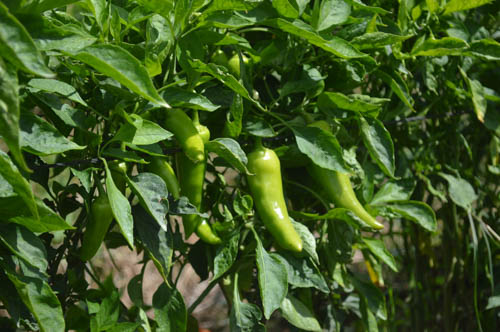ChiliPepper: (150, 164, 226, 245), (246, 152, 302, 253), (310, 164, 388, 234), (168, 112, 202, 238), (81, 200, 117, 262)
